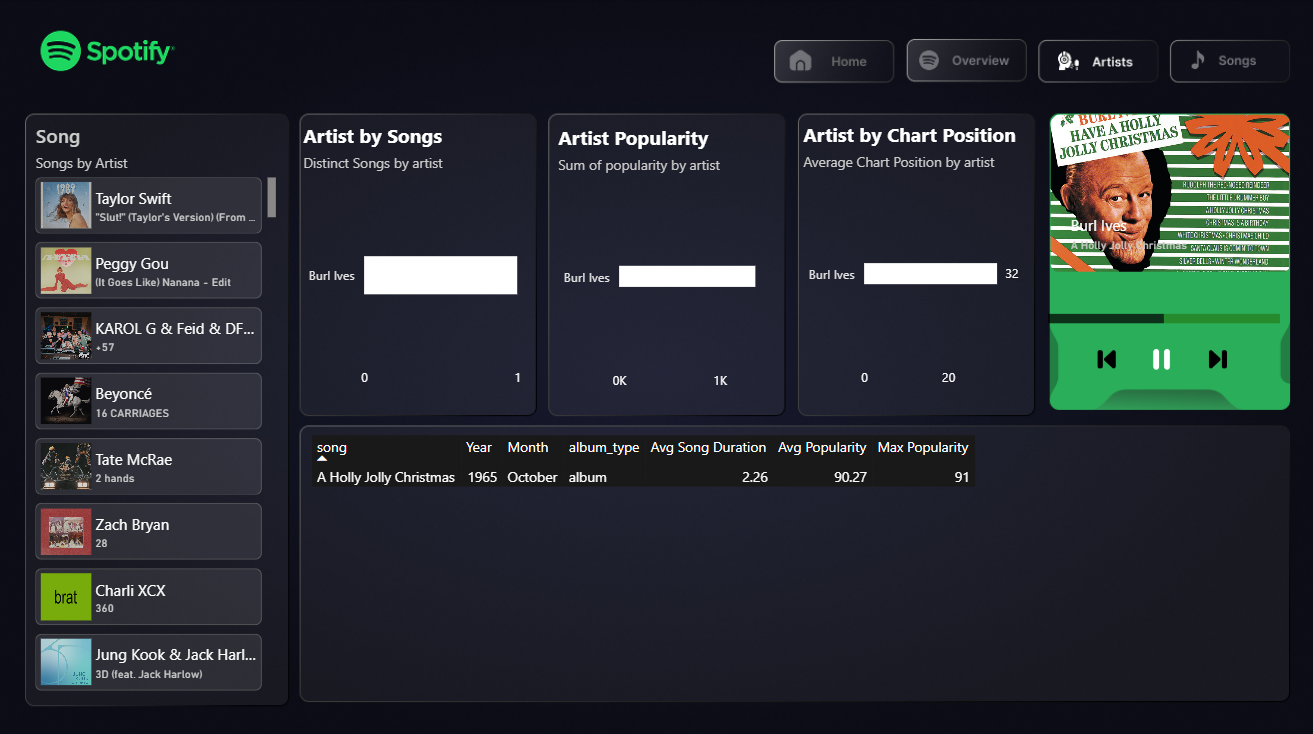

Layout of this report page (visuals, bound fields, positions):
{"tool":"powerbi","page":{"name":"Artists","canvas":[1280,720],"ordinal":2},"visuals":[{"type":"actionButton","box":[758.8,42.2,120,40],"z":0},{"type":"actionButton","box":[878.7,42.4,120,40],"z":1000},{"type":"actionButton","box":[1014.4,42.4,120,40],"z":2000},{"type":"actionButton","box":[1140.1,42.4,120,40],"z":3000},{"type":"advancedSlicerVisual","fields":{"Values":["Top-50-world.song"]},"box":[994,105,283,164],"z":4000},{"type":"barChart","fields":{"Y":["Top-50-world.Avg Popularity","Avg(Top-50-world.popularity)"]},"box":[1012.9,261.9,258,88],"z":5000},{"type":"image","box":[1161.9,332.9,40,30],"z":6000},{"type":"image","box":[1053.9,332.9,40,30],"z":7000},{"type":"image","box":[1107.9,332.9,40,30],"z":8000},{"type":"shape","box":[1017,105,235.3,295.6],"z":9000},{"type":"clusteredBarChart","title":"Artist by Songs ","fields":{"Category":["Top-50-world.artist"],"Y":["Top-50-world.Distinct Songs"]},"box":[294.4,119.4,234,264.2],"z":10000},{"type":"clusteredBarChart","title":"Artist Popularity","fields":{"Y":["Sum(Top-50-world.popularity)"],"Category":["Top-50-world.artist"]},"box":[540.5,120.6,234,265.4],"z":11000},{"type":"advancedSlicerVisual","title":"Song","fields":{"Values":["Top-50-world.song"]},"box":[36.3,119.5,242.1,554.2],"z":12000},{"type":"tableEx","fields":{"Values":["Top-50-world.song","Top-50-world.release_date.Variation.Date Hierarchy.Year","Top-50-world.release_date.Variation.Date Hierarchy.Month","Top-50-world.album_type","Top-50-world.Avg Song Duration","Top-50-world.Avg Popularity","Top-50-world.Max Popularity"]},"box":[301.8,416.4,941.8,257.3],"z":13000},{"type":"clusteredBarChart","title":" Artist by Chart Position","fields":{"Y":["Top-50-world.Average Chart Position"],"Category":["Top-50-world.artist"]},"box":[777.5,118.8,235,265],"z":13001}]}

Visuals, with their boxes in screenshot pixels (x1, y1, x2, y2), scaled from the page's 1280x720 canvas onto the 1313x734 screenshot:
actionButton: <region>778, 43, 901, 84</region>
actionButton: <region>901, 43, 1024, 84</region>
actionButton: <region>1041, 43, 1164, 84</region>
actionButton: <region>1169, 43, 1293, 84</region>
advancedSlicerVisual - Top-50-world.song: <region>1020, 107, 1310, 274</region>
barChart - Top-50-world.Avg Popularity x Avg(Top-50-world.popularity): <region>1039, 267, 1304, 357</region>
image: <region>1192, 339, 1233, 370</region>
image: <region>1081, 339, 1122, 370</region>
image: <region>1136, 339, 1177, 370</region>
shape: <region>1043, 107, 1285, 408</region>
"Artist by Songs " clusteredBarChart: <region>302, 122, 542, 391</region>
"Artist Popularity" clusteredBarChart: <region>554, 123, 794, 394</region>
"Song" advancedSlicerVisual: <region>37, 122, 286, 687</region>
tableEx - Top-50-world.song x Top-50-world.release_date.Variation.Date Hierarchy.Year: <region>310, 424, 1276, 687</region>
" Artist by Chart Position" clusteredBarChart: <region>798, 121, 1039, 391</region>
